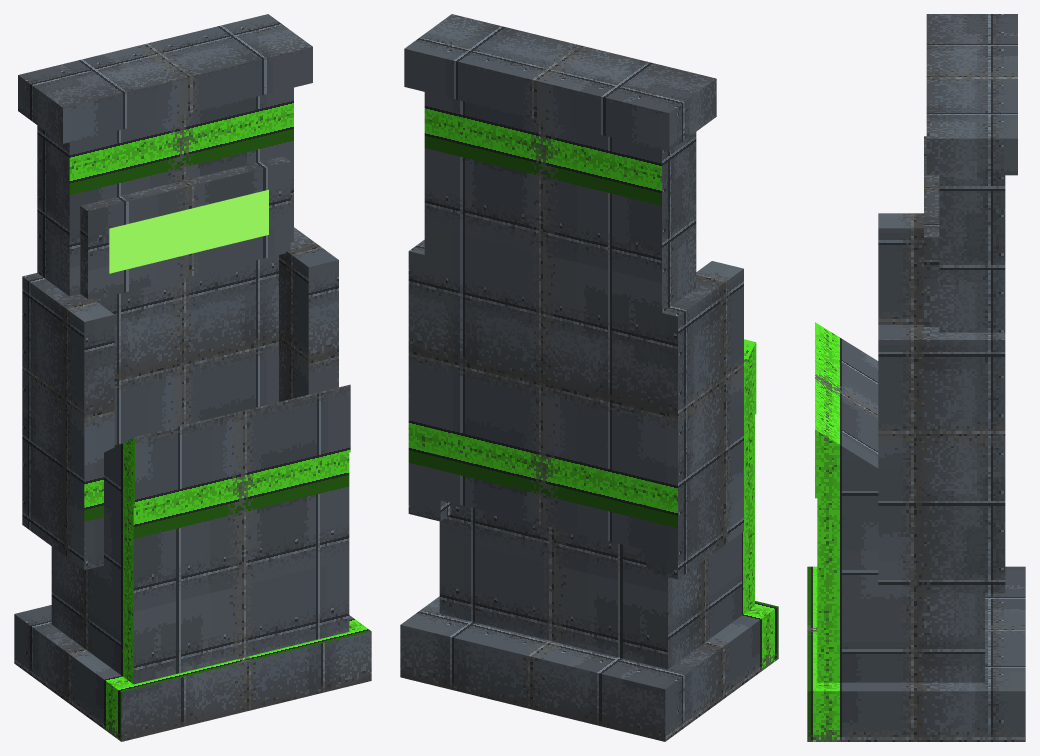
Rendered from epsilon_a_lectern.glb.
The picture shows the model from 3 angles, left to right: view 1: azimuth 30°, elevation 25°; view 2: azimuth 150°, elevation 25°; view 3: azimuth 270°, elevation 25°; orthographic projection. The views are drawn at different scales.
Visible parts, largest first — view 1: epsilon_a_lectern; view 2: epsilon_a_lectern; view 3: epsilon_a_lectern.
Boxes of the visible parts, bbox=[...] form: epsilon_a_lectern: bbox=[14, 14, 371, 741]; epsilon_a_lectern: bbox=[400, 14, 778, 741]; epsilon_a_lectern: bbox=[807, 14, 1025, 741].
Bounding box in the file's own units: 1.18 × 2.62 × 0.86.
2 materials, 1 textured.
